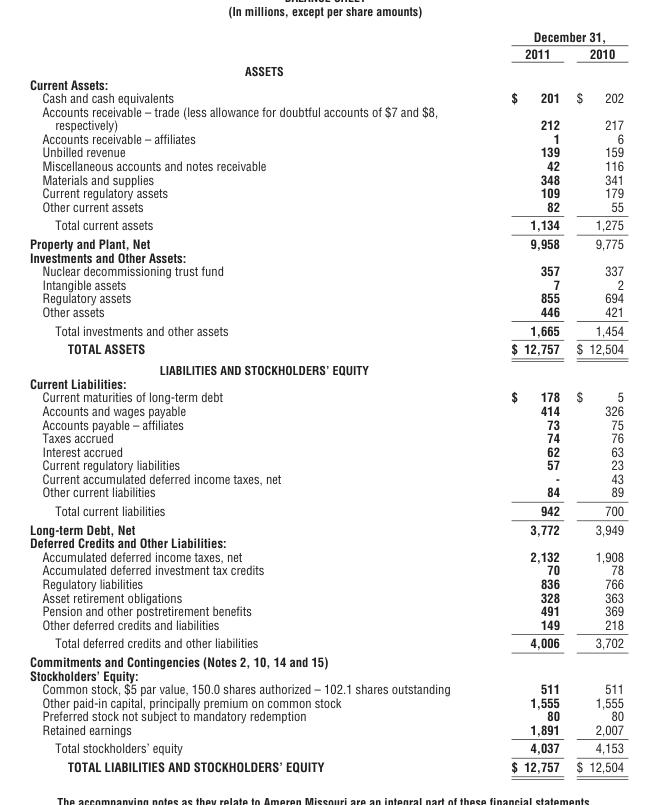table: (28, 28, 623, 774)
table column: (28, 28, 480, 774), (480, 28, 567, 774), (567, 28, 623, 774)
table column header: (28, 28, 623, 62)
table projected row header: (28, 359, 623, 376), (28, 651, 623, 668), (28, 62, 623, 77), (28, 535, 623, 549), (28, 77, 623, 90), (28, 250, 623, 263), (28, 376, 623, 389), (28, 668, 623, 681)
table row: (28, 104, 623, 131), (28, 339, 623, 359), (28, 215, 623, 234), (28, 320, 623, 339), (28, 738, 623, 757), (28, 44, 623, 62), (28, 501, 623, 519), (28, 633, 623, 651), (28, 359, 623, 376), (28, 484, 623, 501), (28, 651, 623, 668), (28, 757, 623, 774), (28, 28, 623, 44), (28, 199, 623, 215), (28, 234, 623, 250), (28, 304, 623, 320), (28, 519, 623, 535), (28, 617, 623, 633), (28, 722, 623, 738), (28, 62, 623, 77), (28, 90, 623, 104), (28, 131, 623, 145), (28, 158, 623, 172), (28, 185, 623, 199), (28, 263, 623, 277), (28, 290, 623, 304), (28, 389, 623, 403), (28, 403, 623, 417), (28, 430, 623, 444), (28, 457, 623, 471), (28, 535, 623, 549), (28, 562, 623, 576), (28, 576, 623, 590), (28, 603, 623, 617), (28, 681, 623, 695), (28, 708, 623, 722), (28, 77, 623, 90), (28, 145, 623, 158), (28, 172, 623, 185), (28, 250, 623, 263), (28, 277, 623, 290), (28, 376, 623, 389), (28, 417, 623, 430), (28, 444, 623, 457), (28, 471, 623, 484), (28, 549, 623, 562), (28, 590, 623, 603), (28, 668, 623, 681), (28, 695, 623, 708)
table spanning cell: (480, 28, 623, 44)
